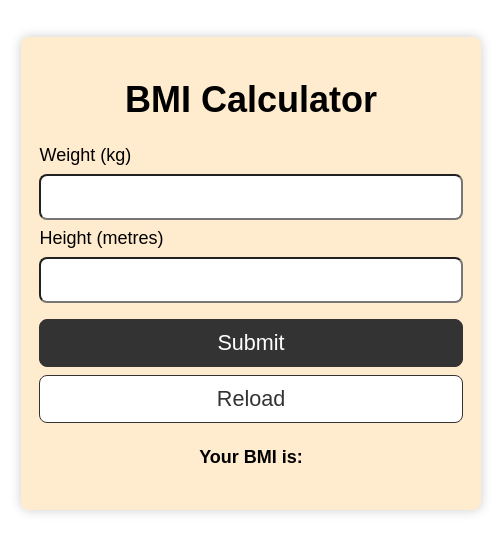
that BMI calculates correctly
In the field labelled "Height (metres)": (251, 280) [40,256,462,302], type "173"
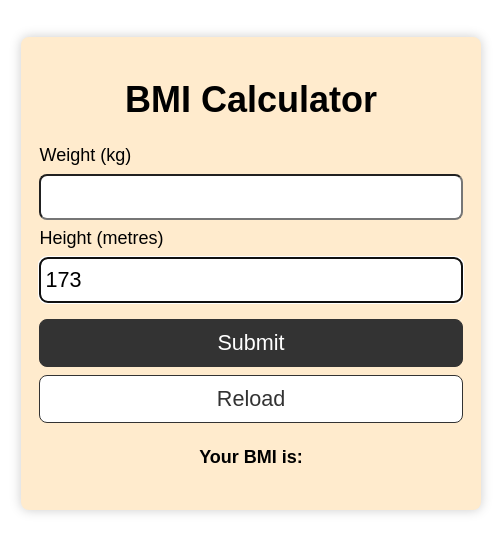
In the field labelled "Weight (kg)": (251, 196) [40,174,462,220], type "79"
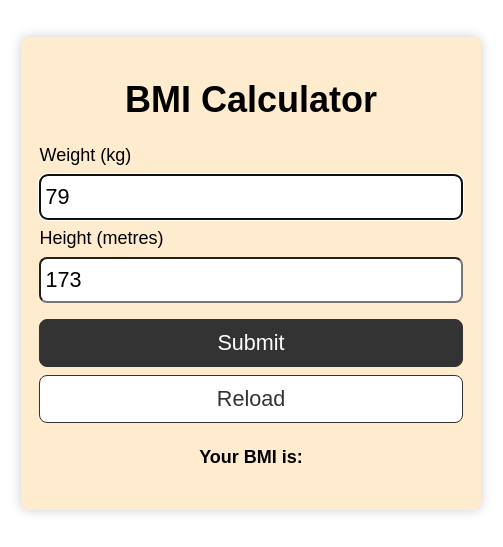
Submit the form with test id "form", box [40,144,462,422]
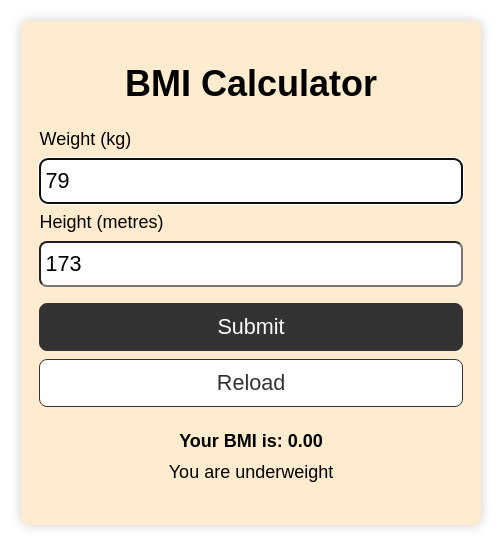
expect the text "You are underweight" is shown: met, box [169,462,333,482]
